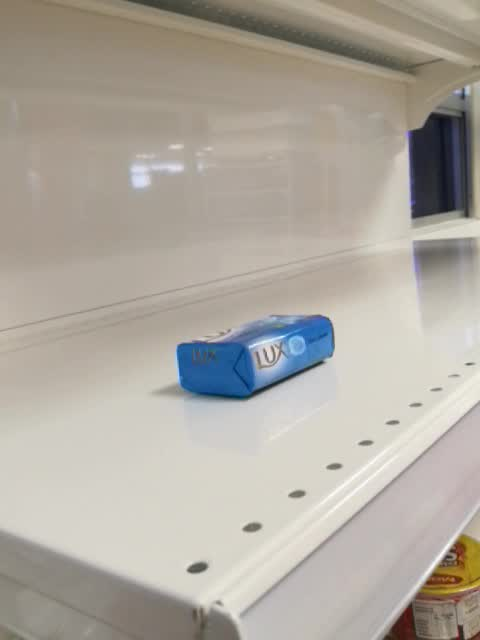soap: (177, 314, 337, 399)
